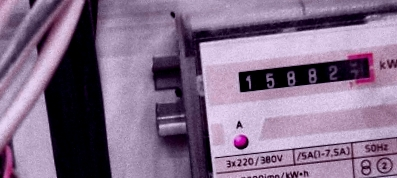1: (243, 73, 254, 90)
2: (326, 63, 338, 81)
5: (264, 71, 275, 88)
7: (349, 67, 359, 79)
8: (305, 66, 317, 84), (285, 69, 296, 86)
screen: (230, 47, 381, 102)
